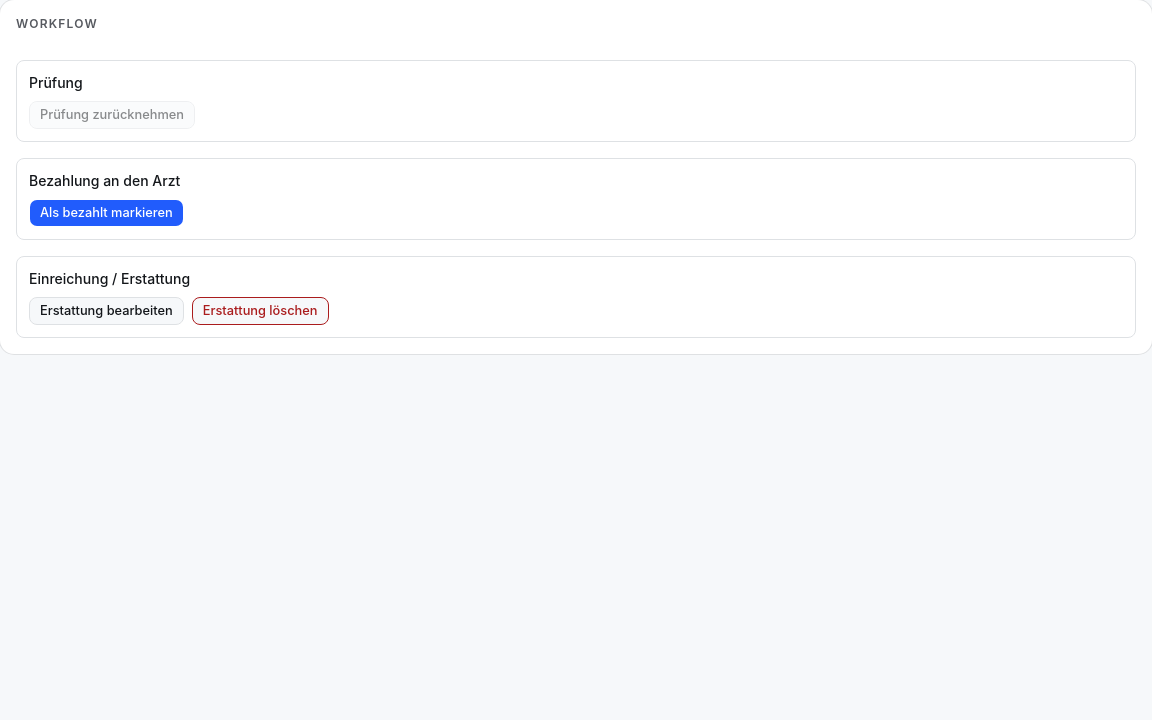
InvoiceStatusFlow — Einreichung / Erstattung track › keeps the sane default when there genuinely is no submission (404)
Click the button "Erstattung bearbeiten".
click(106, 311)  # box [29,297,184,325]
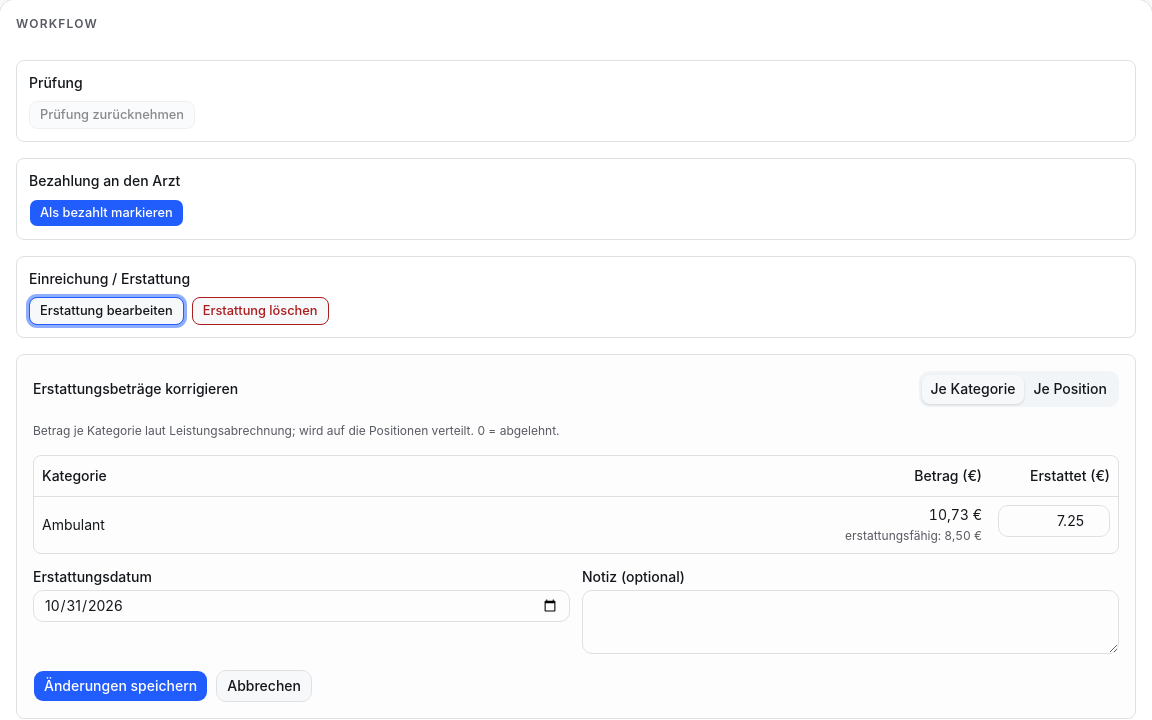
Result: the date field labelled "Erstattungsdatum" is not empty at [33,590,570,622]
Result: the button "Änderungen speichern" is enabled at [33,670,208,702]
